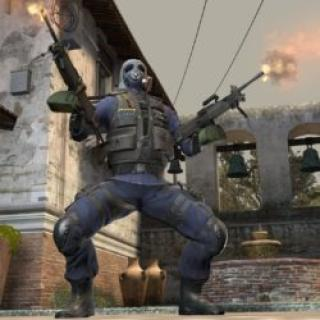CT-Body: (51, 54, 219, 318)
CT-Head: (112, 56, 158, 95)
